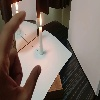fire: (39, 14, 43, 28)
